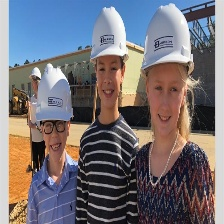helmet: (140, 5, 201, 81), (32, 64, 75, 125), (88, 6, 132, 65)
no-vest: (136, 132, 213, 224), (77, 117, 137, 224), (28, 152, 77, 224)
person: (136, 6, 212, 224), (77, 5, 141, 224), (27, 64, 75, 219)
